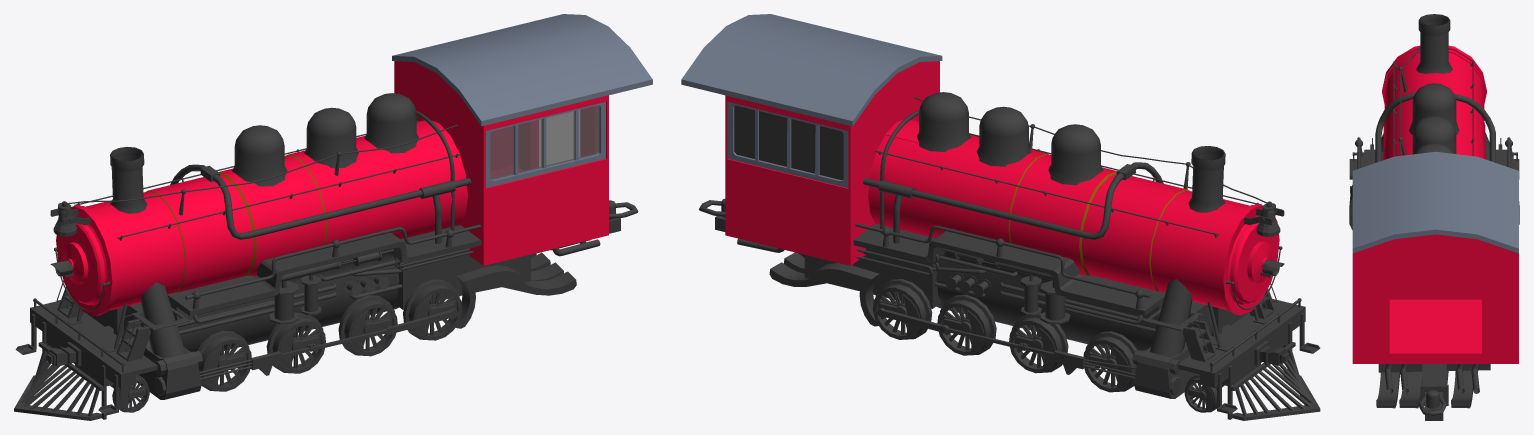
File: train_front.fbx
3 renders of one model, left to right at view 1: azimuth 30°, elevation 25°; view 2: azimuth 150°, elevation 25°; view 3: azimuth 270°, elevation 25°, orthographic. The views are drawn at different scales.
Visible parts, largest first — view 1: polySurface1193; view 2: polySurface1193; view 3: polySurface1193.
Part boxes in pixels (x1,y1,x2,y2): polySurface1193: [14, 14, 652, 420]; polySurface1193: [681, 14, 1320, 420]; polySurface1193: [1349, 14, 1519, 420].
Size of the model in its own units: 1211 by 449 by 309.
Materials: 5 (2 with a texture image).
